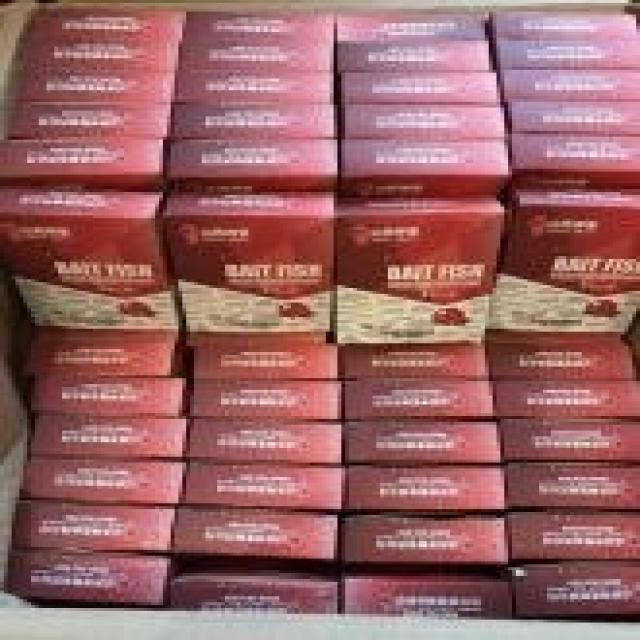box: (0, 183, 178, 335), (330, 189, 504, 343), (155, 189, 334, 335), (481, 186, 640, 340), (4, 544, 171, 605), (12, 495, 182, 553), (337, 140, 512, 195), (337, 506, 508, 561), (163, 137, 337, 189), (341, 463, 508, 515), (171, 509, 337, 561), (0, 137, 167, 186), (508, 559, 640, 620), (19, 457, 182, 506), (182, 460, 345, 509), (504, 131, 640, 189), (31, 369, 186, 419), (182, 419, 349, 465), (504, 460, 640, 515), (27, 413, 186, 460), (178, 332, 337, 378), (508, 509, 640, 564), (504, 413, 640, 465), (337, 378, 496, 422), (345, 419, 504, 463), (341, 579, 508, 620), (23, 335, 182, 378), (186, 378, 341, 422), (330, 105, 508, 143), (0, 99, 171, 137), (167, 102, 337, 140), (171, 573, 337, 611), (12, 38, 182, 73), (496, 378, 640, 419), (481, 340, 636, 378), (334, 38, 500, 73), (19, 9, 190, 41), (182, 9, 337, 44), (334, 343, 489, 378), (337, 73, 504, 105), (0, 73, 178, 102), (493, 38, 640, 73), (334, 12, 493, 44), (500, 70, 640, 105), (489, 9, 640, 41), (171, 73, 334, 102), (178, 44, 334, 73), (504, 102, 640, 131)
